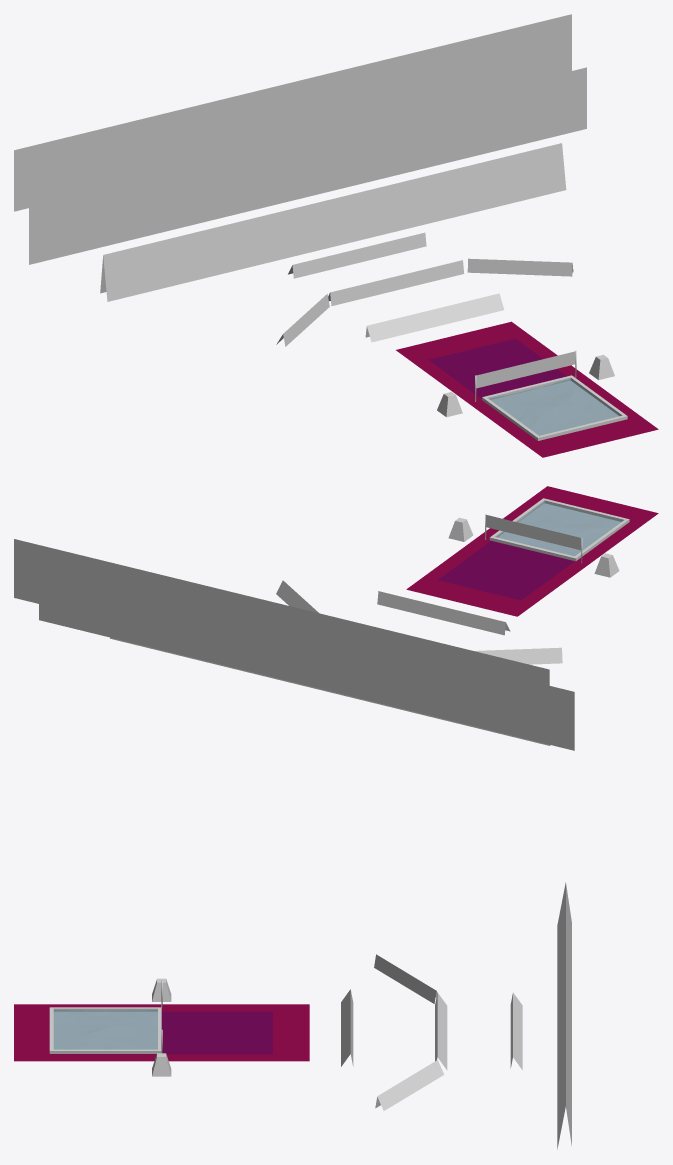
Rendered from stadium.fbx.
3 views of the same model, one above another, from view 1: azimuth 30°, elevation 25°; view 2: azimuth 150°, elevation 25°; view 3: azimuth 270°, elevation 25° (orthographic). The views are drawn at different scales.
Parts seen in each view (by area): view 1: Plane.009, Plane.010, Plane.006, playground, pool, water, playfield, Plane.007, Plane.003, Plane.002, Plane.005, net (+1 smaller); view 2: Plane.010, Plane.009, playground, playfield, pool, water, Plane.007, net, Plane.004, Plane.006, Plane.005, Cube.002 (+1 smaller); view 3: playground, pool, playfield, water, Plane.006, Plane.005, Plane.004, Plane.007, Plane.003, Plane.002.
Boxes of the visible parts, box(x1,y1,x2,y2) form: Plane.009: box(29, 67, 586, 264); Plane.010: box(14, 14, 571, 211); Plane.006: box(100, 143, 566, 301); playground: box(396, 321, 658, 457); pool: box(482, 375, 627, 440); water: box(489, 379, 620, 435); playfield: box(428, 338, 566, 398); Plane.007: box(365, 293, 504, 342); Plane.003: box(288, 232, 426, 278); Plane.002: box(328, 260, 464, 306); Plane.005: box(467, 258, 573, 276); net: box(476, 351, 575, 388); Plane.010: box(14, 539, 549, 728); Plane.009: box(39, 604, 574, 750); playground: box(406, 486, 658, 616); playfield: box(438, 540, 574, 600); pool: box(489, 498, 629, 561); water: box(497, 502, 622, 555); Plane.007: box(377, 591, 510, 635); net: box(486, 515, 581, 550); Plane.004: box(474, 647, 562, 664); Plane.006: box(110, 637, 550, 745); Plane.005: box(276, 580, 318, 612); Cube.002: box(448, 517, 473, 541); playground: box(14, 1004, 309, 1061); pool: box(49, 1007, 161, 1053); playfield: box(51, 1011, 272, 1054); water: box(54, 1010, 157, 1049); Plane.006: box(557, 882, 571, 1149); Plane.005: box(375, 1060, 444, 1110); Plane.004: box(374, 954, 437, 1003); Plane.007: box(341, 989, 353, 1066); Plane.003: box(510, 992, 522, 1069); Plane.002: box(435, 992, 447, 1070).
Size of the model in its own units: 8368 by 1789 by 8262.
